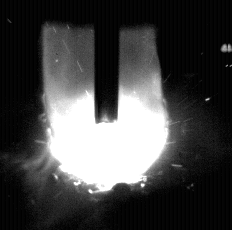arame: (95, 0, 120, 124)
poca: (47, 0, 170, 230)
